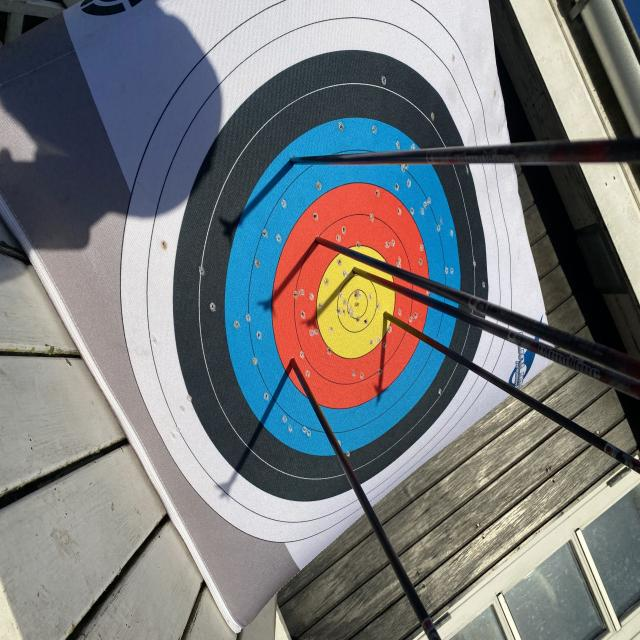Arrow_Blue: (270, 122, 309, 186)
Arrow_Red: (261, 332, 315, 390), (366, 300, 406, 338)
Arrow_Yellow: (305, 212, 347, 262), (349, 250, 389, 302)
